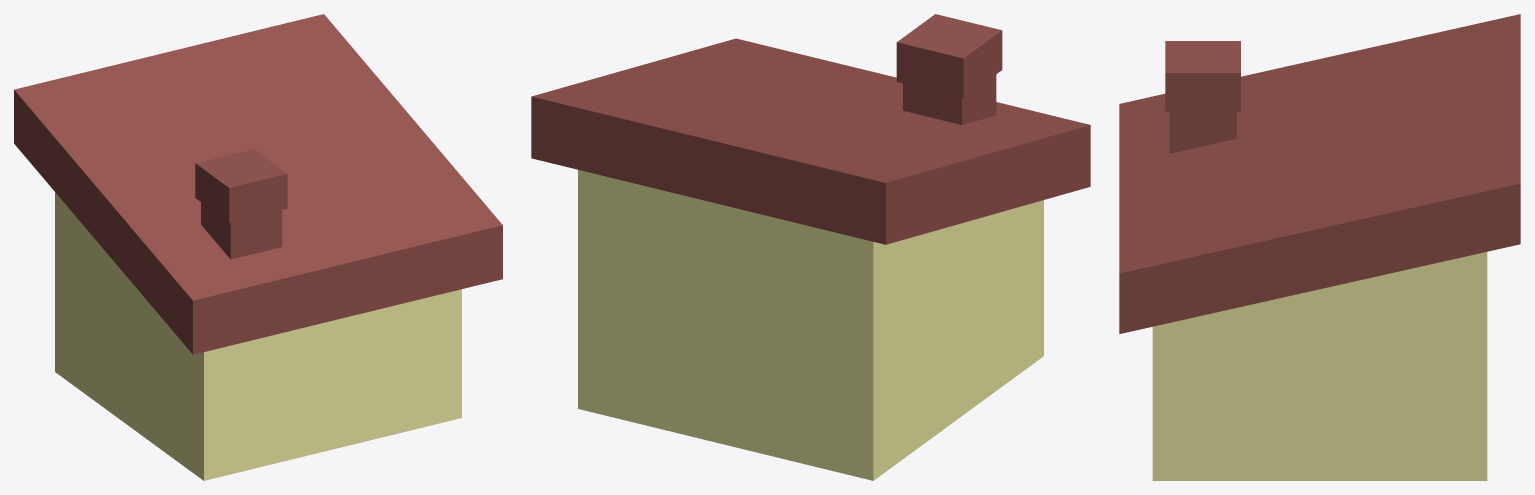
The model's file is house2.glb.
The picture shows the model from 3 angles, left to right: view 1: azimuth 30°, elevation 25°; view 2: azimuth 150°, elevation 25°; view 3: azimuth 270°, elevation 25°; orthographic projection. The views are drawn at different scales.
Parts seen in each view (by area): view 1: Body.001, Roof.001, Cube.001, Cube; view 2: Roof.001, Body.001, Cube.001, Cube; view 3: Body.001, Roof.001, Cube.001, Cube.
Boxes of the visible parts, x1=… form: Body.001: x1=14, y1=14, x2=502, y2=354; Roof.001: x1=55, y1=192, x2=461, y2=480; Cube.001: x1=195, y1=149, x2=287, y2=222; Cube: x1=201, y1=202, x2=282, y2=259; Roof.001: x1=578, y1=170, x2=1043, y2=480; Body.001: x1=531, y1=38, x2=1090, y2=244; Cube.001: x1=896, y1=14, x2=1002, y2=98; Cube: x1=903, y1=75, x2=996, y2=124; Body.001: x1=1119, y1=14, x2=1520, y2=333; Roof.001: x1=1152, y1=252, x2=1487, y2=480; Cube.001: x1=1165, y1=41, x2=1240, y2=111; Cube: x1=1169, y1=111, x2=1236, y2=153.
Bounding box in the file's own units: 2.4 × 2.08 × 2.4.
